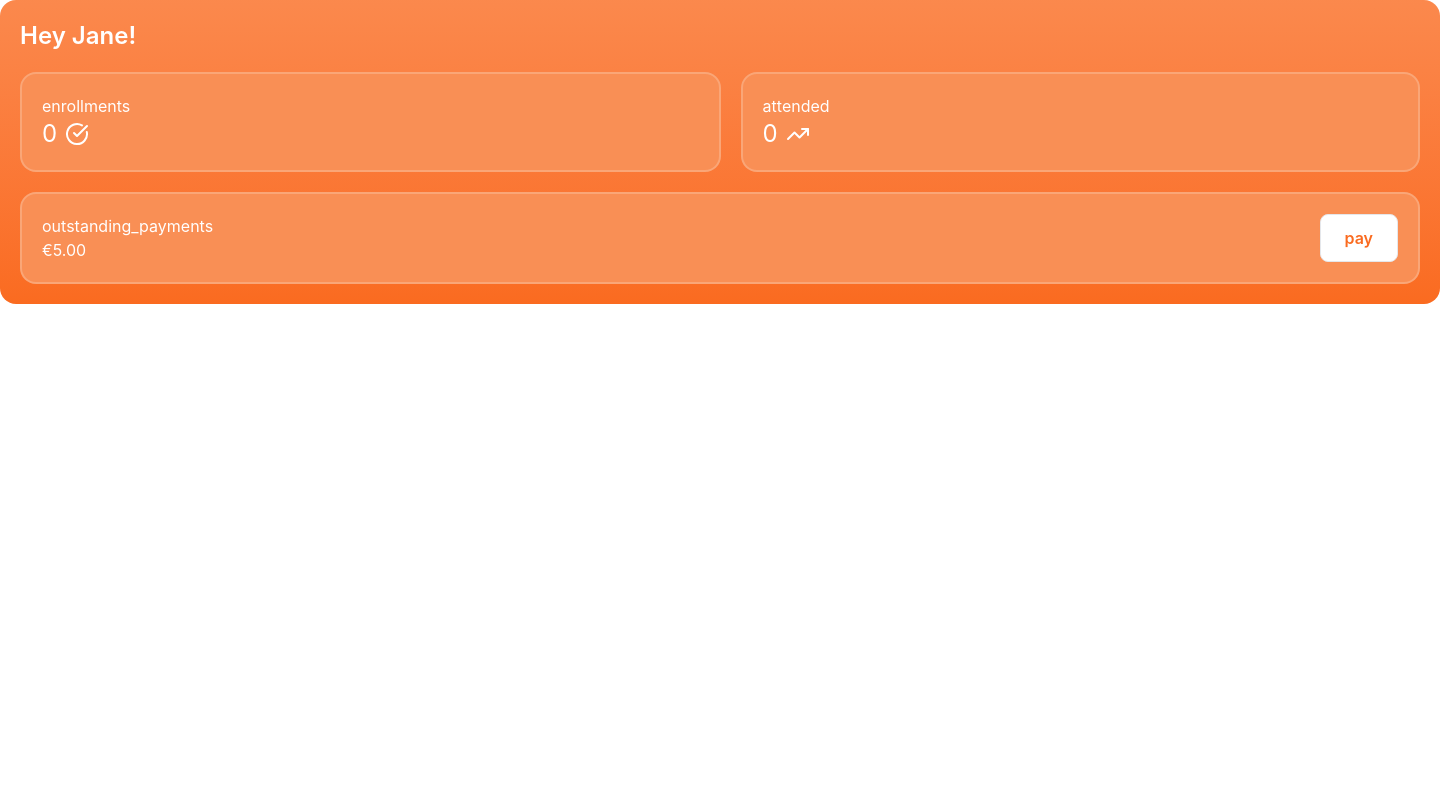
Scenario: DashboardHeader › opens a modal with the outstanding payments
Click the text "€5.00" at [64, 250], box x1=42 y1=240 x2=86 y2=260
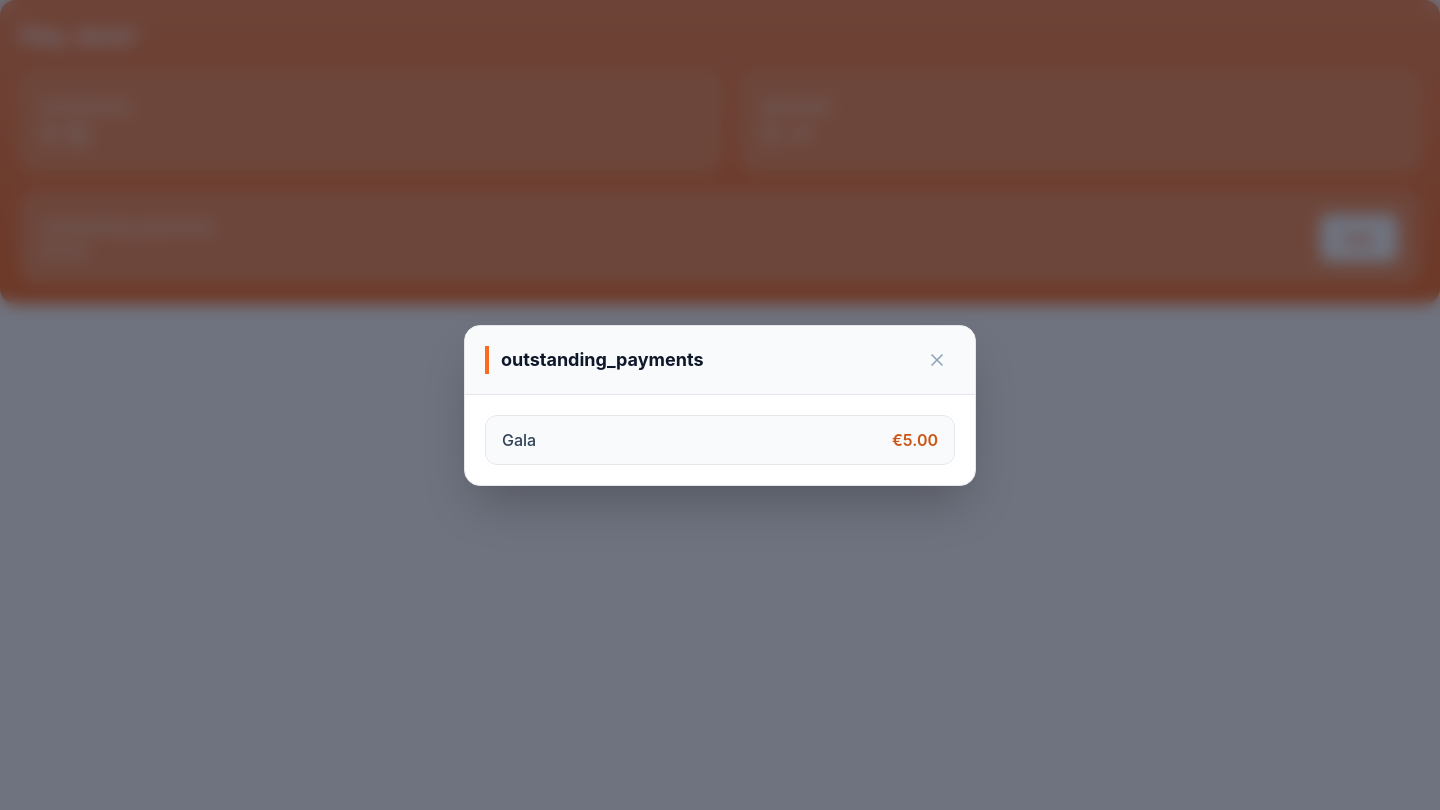
Check: the text "Gala" is shown, box x1=502 y1=428 x2=536 y2=452
Click the button named "close_modal" at [937, 360], box x1=919 y1=342 x2=955 y2=378
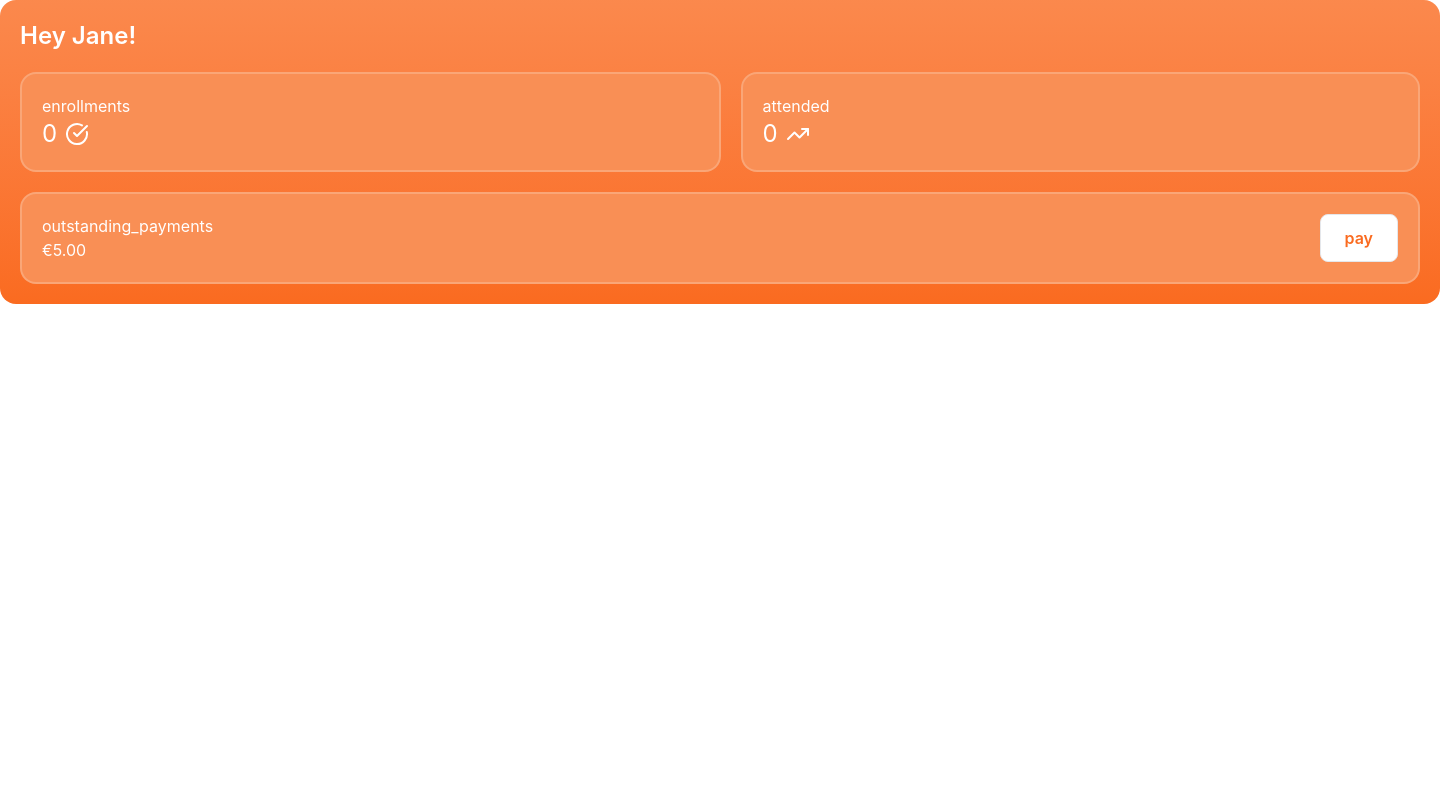
Check: the text "Gala" is gone
